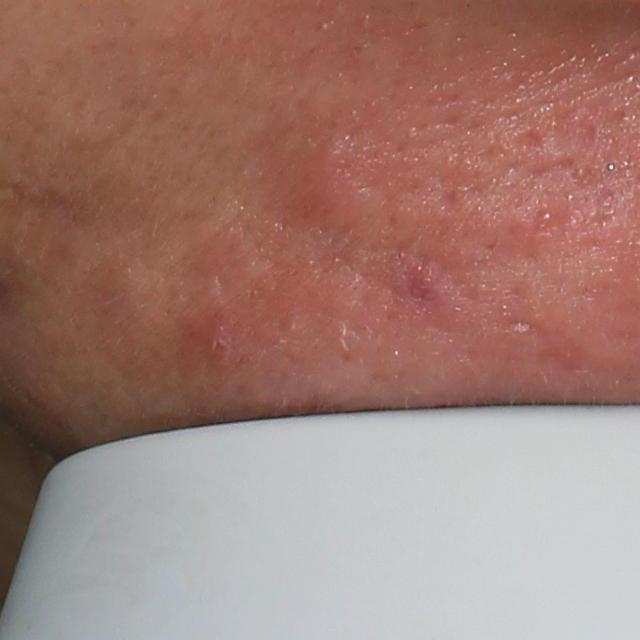papule: (187, 306, 240, 363)
